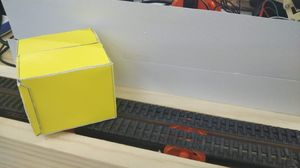box4: (15, 25, 118, 135)
